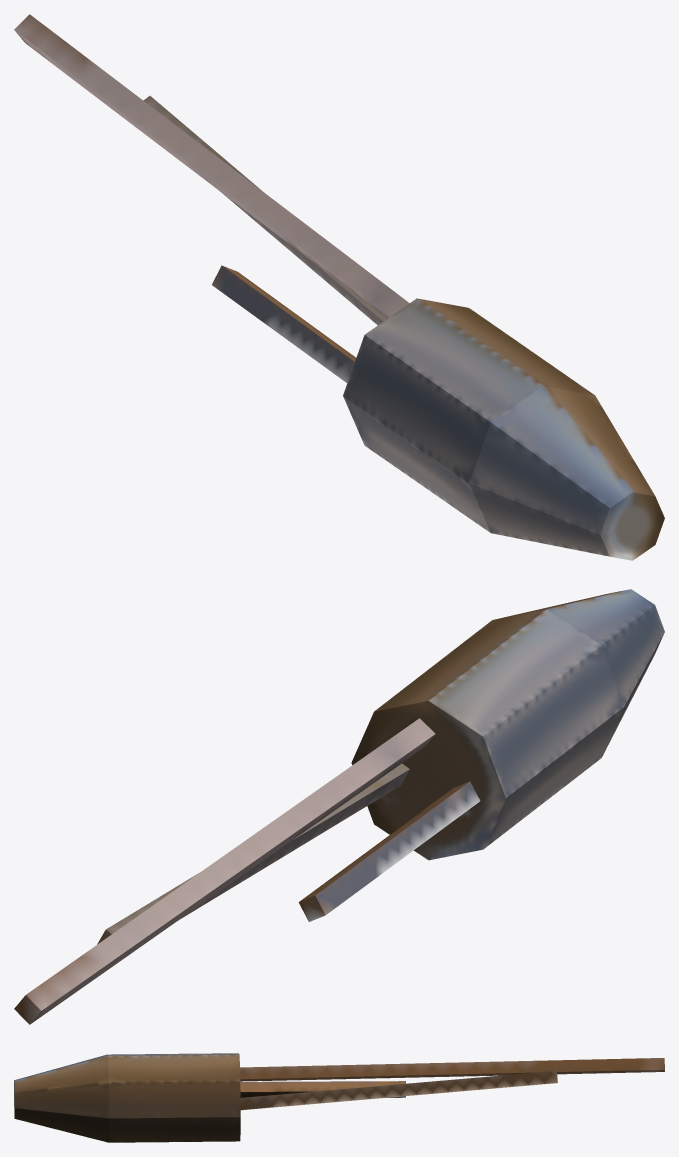
3 views of the same model, one above another, from view 1: azimuth 30°, elevation 25°; view 2: azimuth 150°, elevation 25°; view 3: azimuth 270°, elevation 25° (orthographic). The views are drawn at different scales.
Parts seen in each view (by area): view 1: Bala_Cylinder.003, Estela_1_Cube.006, Estela_2_Cube.007, Estela_3_Cube.008; view 2: Bala_Cylinder.003, Estela_1_Cube.006, Estela_2_Cube.007, Estela_3_Cube.008; view 3: Bala_Cylinder.003, Estela_1_Cube.006, Estela_3_Cube.008, Estela_2_Cube.007.
Part boxes in pixels (x1,y1,x2,y2): Bala_Cylinder.003: (343,298,664,560); Estela_1_Cube.006: (14,14,409,318); Estela_2_Cube.007: (212,265,355,382); Estela_3_Cube.008: (143,96,386,325); Bala_Cylinder.003: (351,589,664,860); Estela_1_Cube.006: (14,718,435,1024); Estela_2_Cube.007: (298,781,480,921); Estela_3_Cube.008: (97,763,409,944); Bala_Cylinder.003: (14,1053,240,1142); Estela_1_Cube.006: (240,1058,664,1081); Estela_3_Cube.008: (240,1071,557,1110); Estela_2_Cube.007: (240,1081,405,1097).
Size of what is drawn, in the model's own units: 0.2897 by 0.2805 by 1.95.
